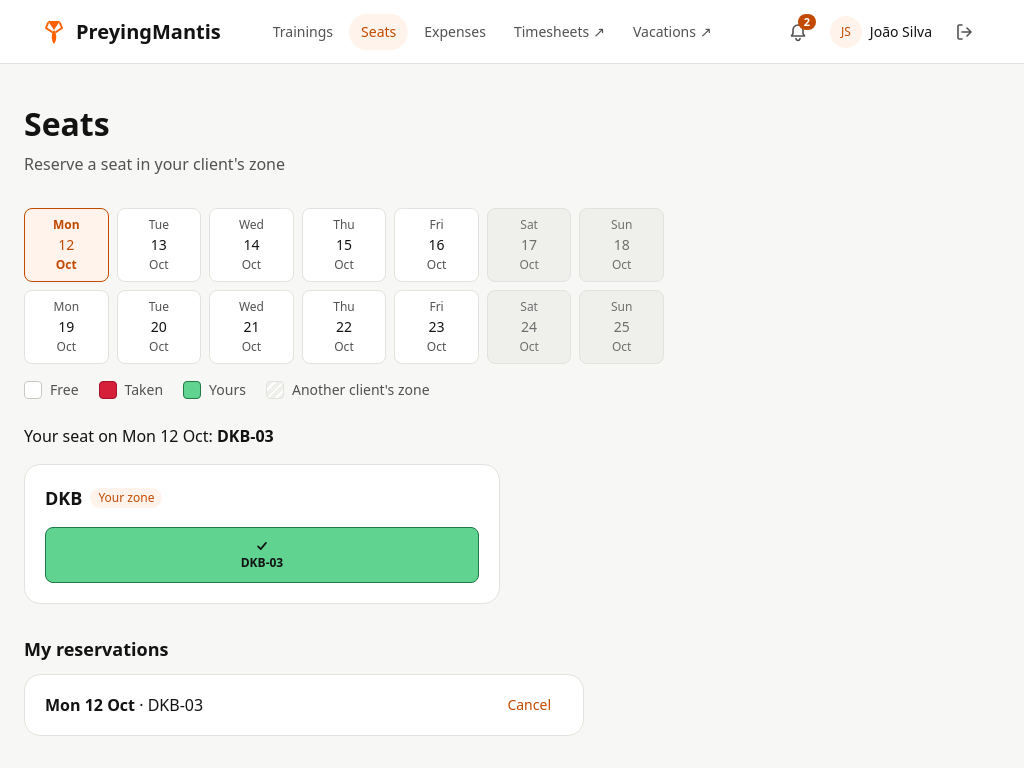
Test: my reservations › cancels after confirming, and the seat turns white on the map
Expected: the button with aria-label "DKB-03, your seat" is shown, top-left (45, 527), bottom-right (479, 583)
Click the button with aria-label "Cancel DKB-03 on Mon 12 Oct" at (529, 705), box top-left (483, 683), bottom-right (575, 727)
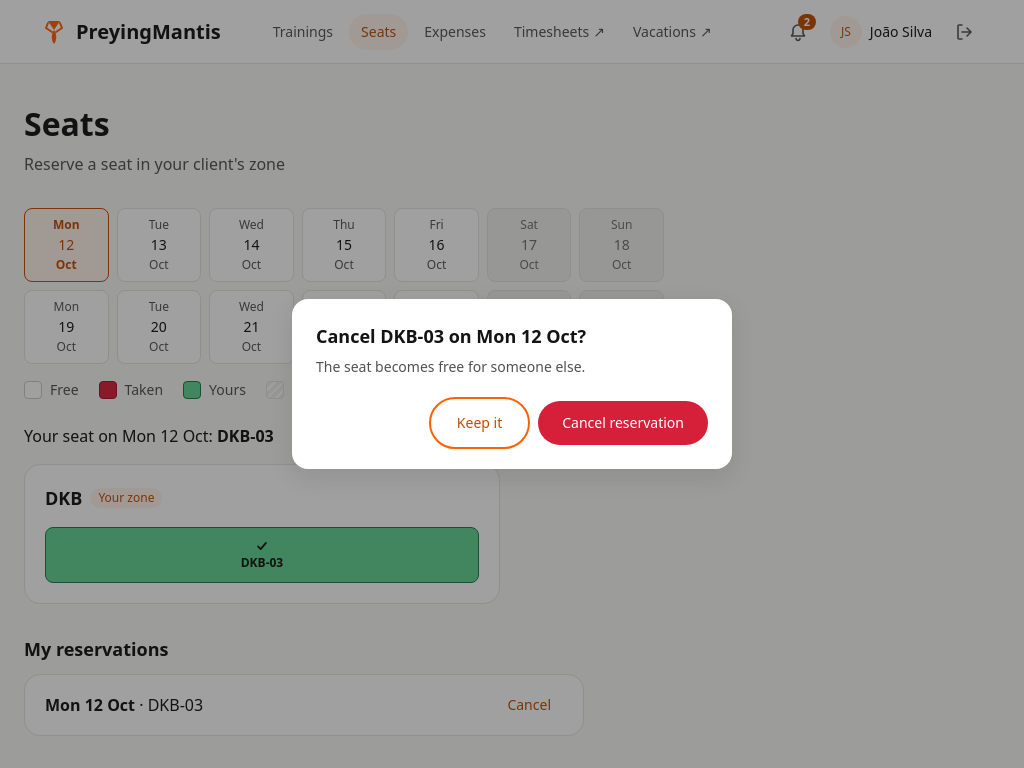
Click the button "Cancel reservation" at (623, 423), box top-left (538, 401), bottom-right (708, 445)
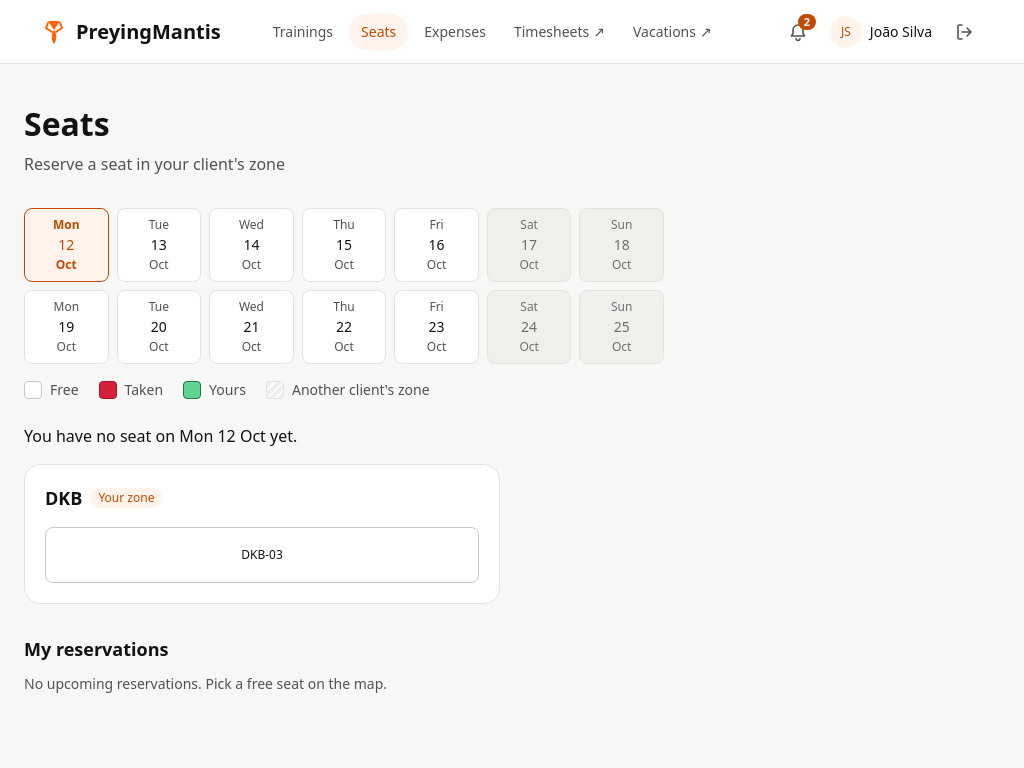
Expected: the text "No upcoming reservations. Pick a free seat on the map." is shown, top-left (24, 674), bottom-right (387, 693)
Expected: the button with aria-label "DKB-03, free" is shown, top-left (45, 527), bottom-right (479, 583)
